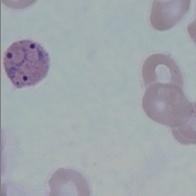Infected: (5, 41, 51, 86)
Uninfected: (142, 82, 191, 127), (142, 53, 183, 103)
